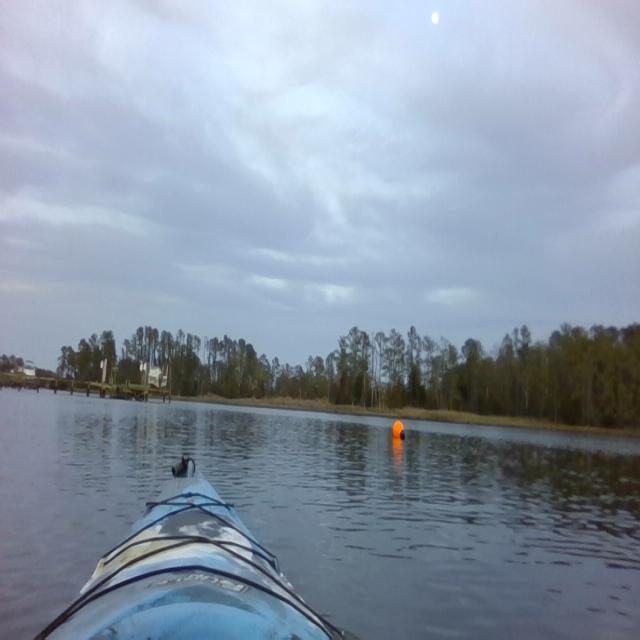Buoy: (390, 415, 407, 447)
